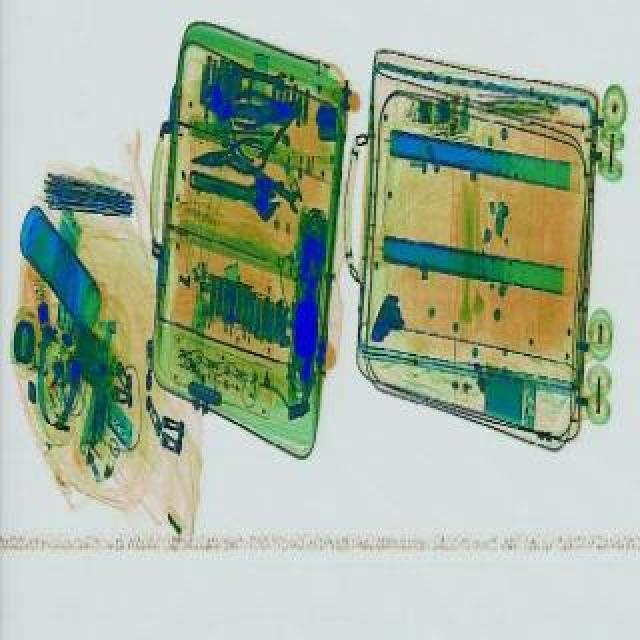scissors: (212, 146, 308, 220), (180, 162, 284, 226), (194, 86, 294, 136), (226, 64, 290, 94)
wrench: (186, 138, 266, 184), (232, 94, 300, 134)
